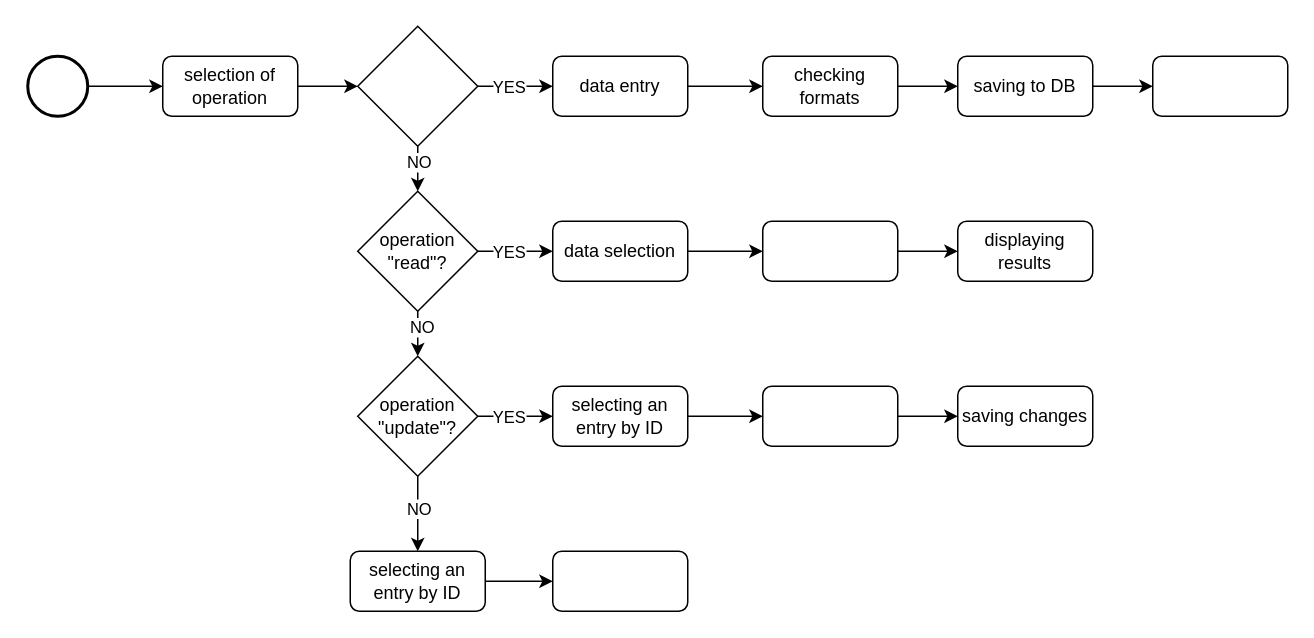
The diagram is 1314 pixels wide and 638 high, and some of its shapes have lost their labels. Each missing label, with the centre of its shape:
changing data: [829,415]
deleting from the DB: [619,580]
notification of success: [1219,85]
operation "create"?: [417,85]
sorting: [829,250]
